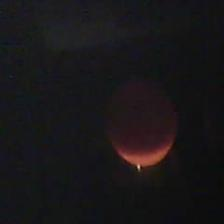fertile: (108, 65, 181, 167)
